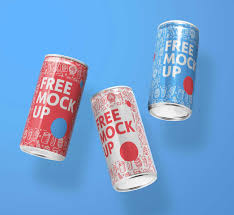can: (23, 14, 206, 200)
